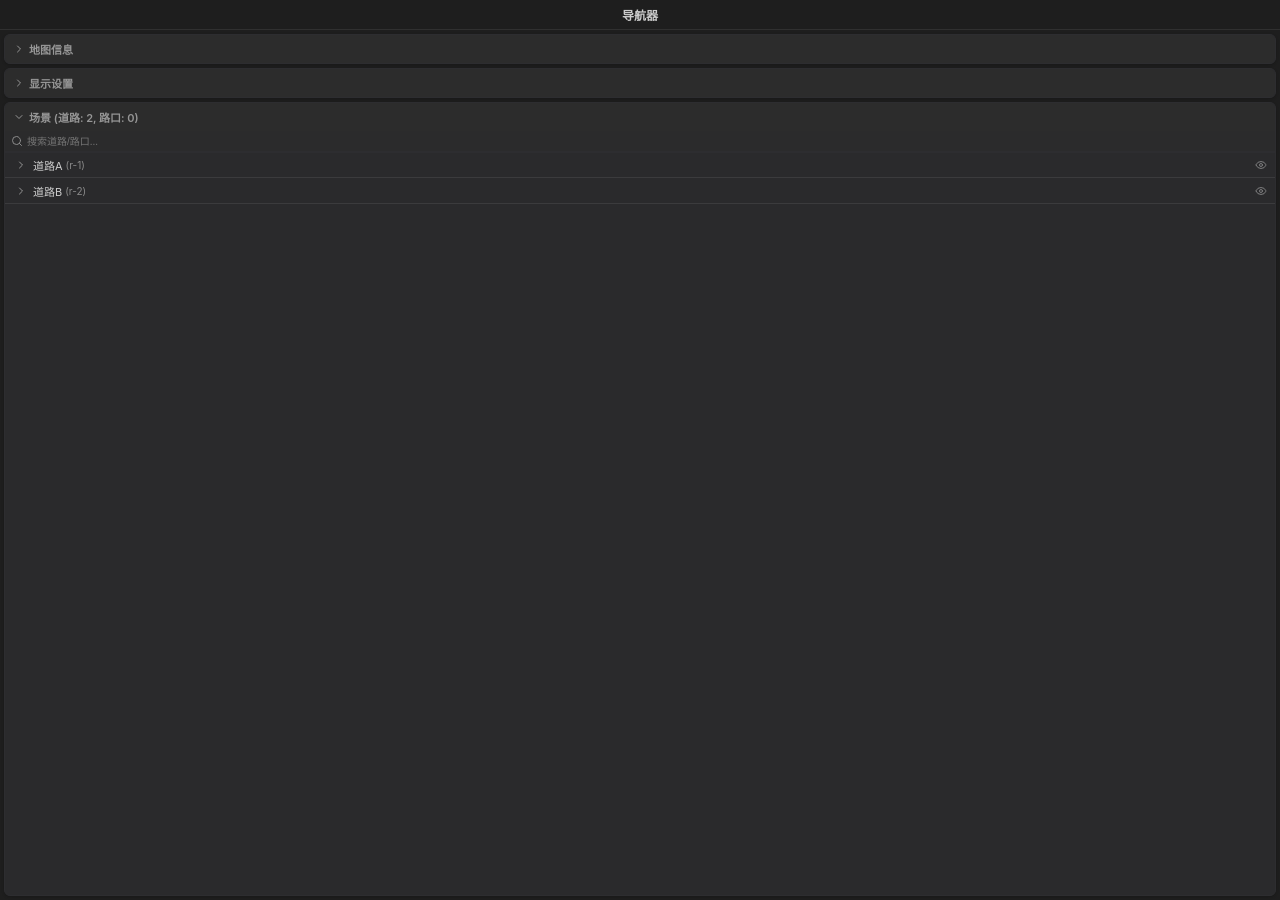
Test: LayerPanel › restores full list when search is cleared
The image size is (1280, 900).
Type "道路A" into the field with placeholder "搜索道路/路口..." at (648, 141), box [27,136,1269,146]
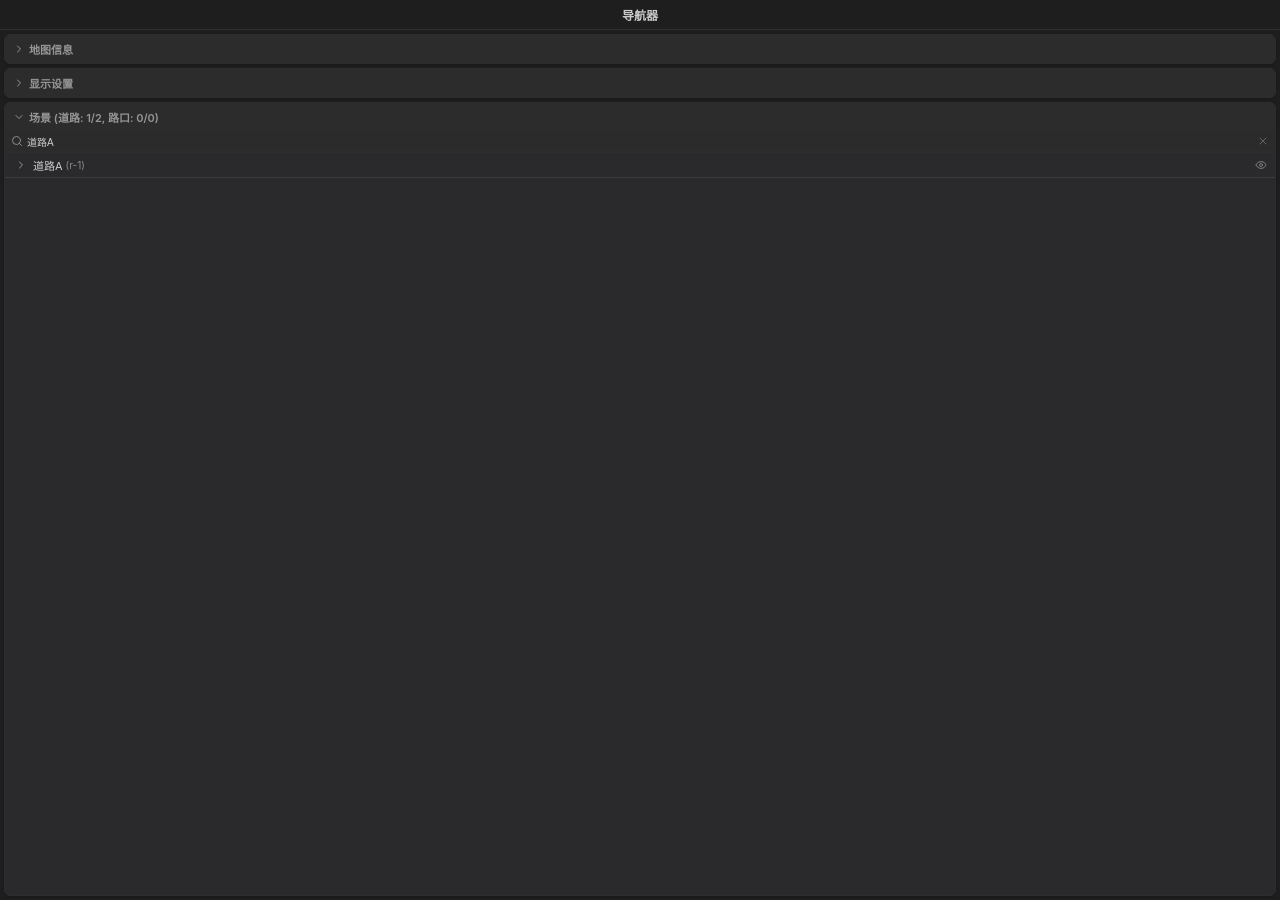
Expected: the text "道路B" is gone
Note: Click the clear button
Click the button titled "Clear" at (1263, 141), box [1257,135,1269,147]
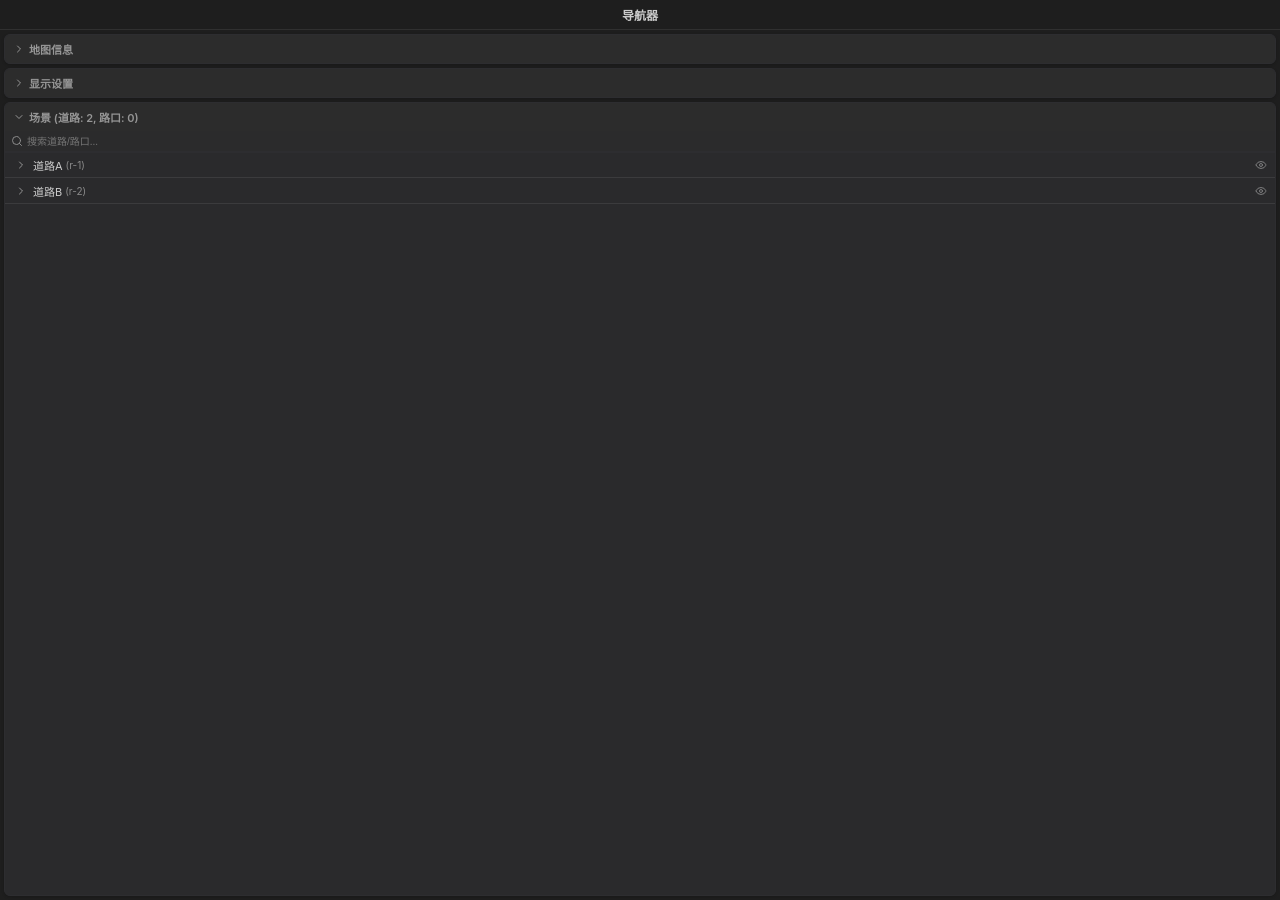
Expected: the text "道路A" is shown, [33,159,63,173]
Expected: the text "道路B" is shown, [33,185,62,199]
